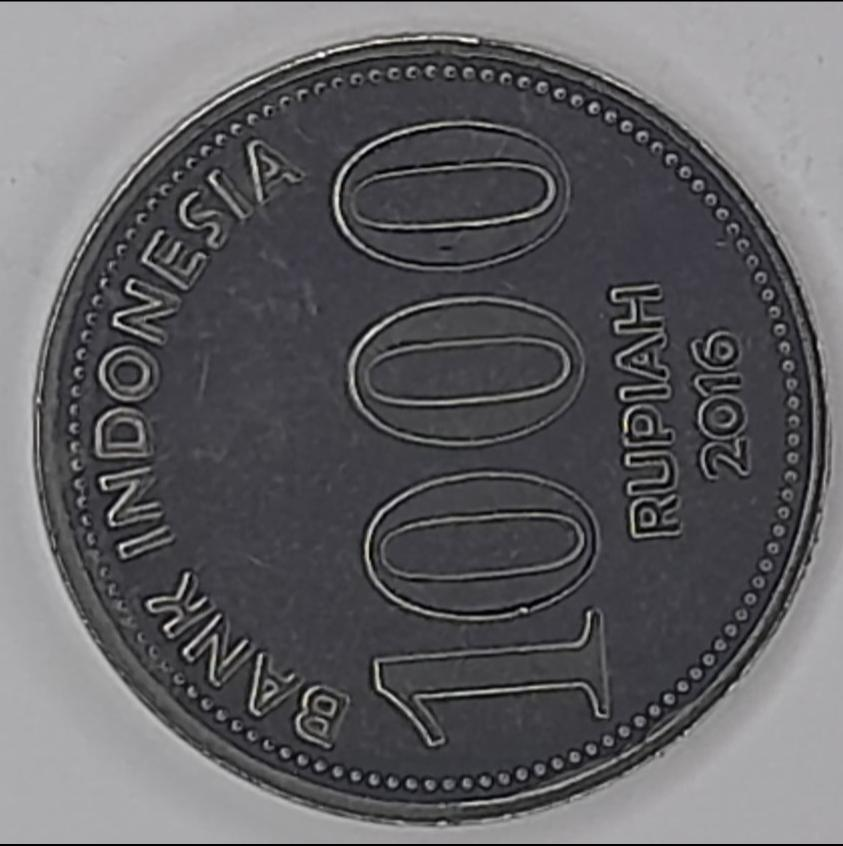coin_1000_e2016: (14, 17, 832, 846)
